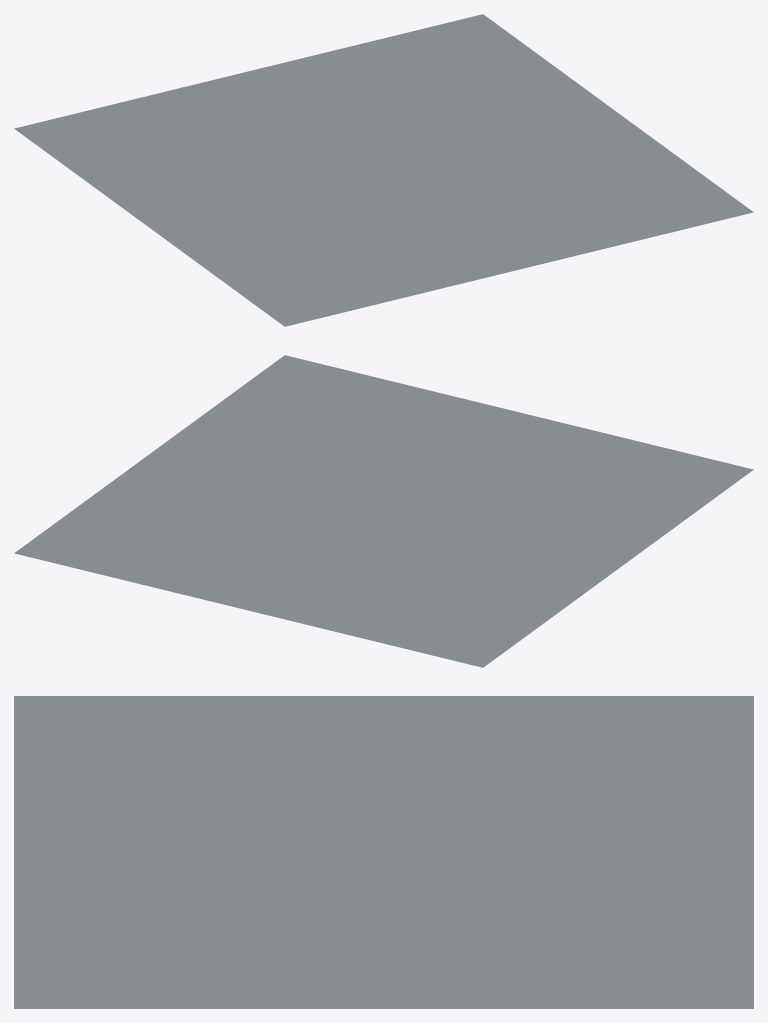
Rendered from Road_Pavement.fbx.
The picture shows the model from 3 angles, top to bottom: view 1: azimuth 30°, elevation 25°; view 2: azimuth 150°, elevation 25°; view 3: azimuth 270°, elevation 25°; orthographic projection. The views are drawn at different scales.
Visible parts, largest first — view 1: Road_Pavement; view 2: Road_Pavement; view 3: Road_Pavement.
Boxes of the visible parts, box(x1,y1,x2,y2) form: Road_Pavement: box(14, 14, 753, 326); Road_Pavement: box(14, 355, 753, 667); Road_Pavement: box(14, 696, 753, 1008).
Bounding box in the file's own units: 10 × 2.98e-08 × 10.
